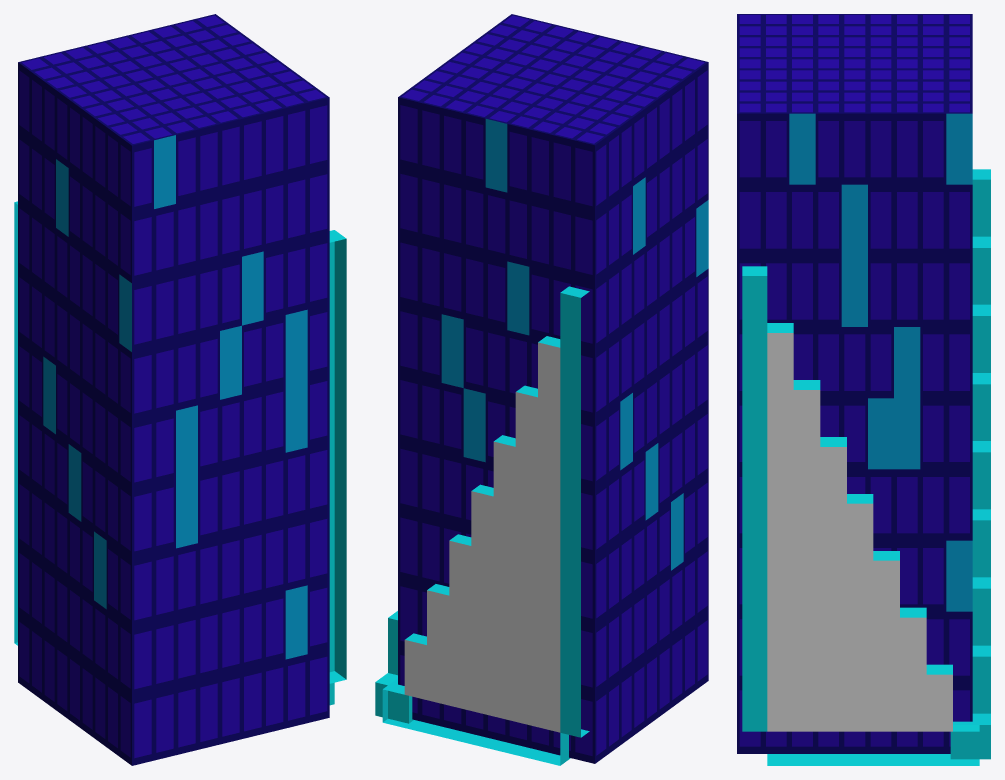
File: GEDUNG.1.fbx
The picture shows the model from 3 angles, left to right: view 1: azimuth 30°, elevation 25°; view 2: azimuth 150°, elevation 25°; view 3: azimuth 270°, elevation 25°; orthographic projection. The views are drawn at different scales.
Parts seen in each view (by area): view 1: Cube.125; view 2: Cube.125; view 3: Cube.125.
Boxes of the visible parts, x1,y1,x2,y2 form: Cube.125: (14, 14, 346, 765); Cube.125: (375, 14, 708, 765); Cube.125: (737, 14, 990, 765).
Bounding box in the file's own units: 1992 × 5455 × 1953.
